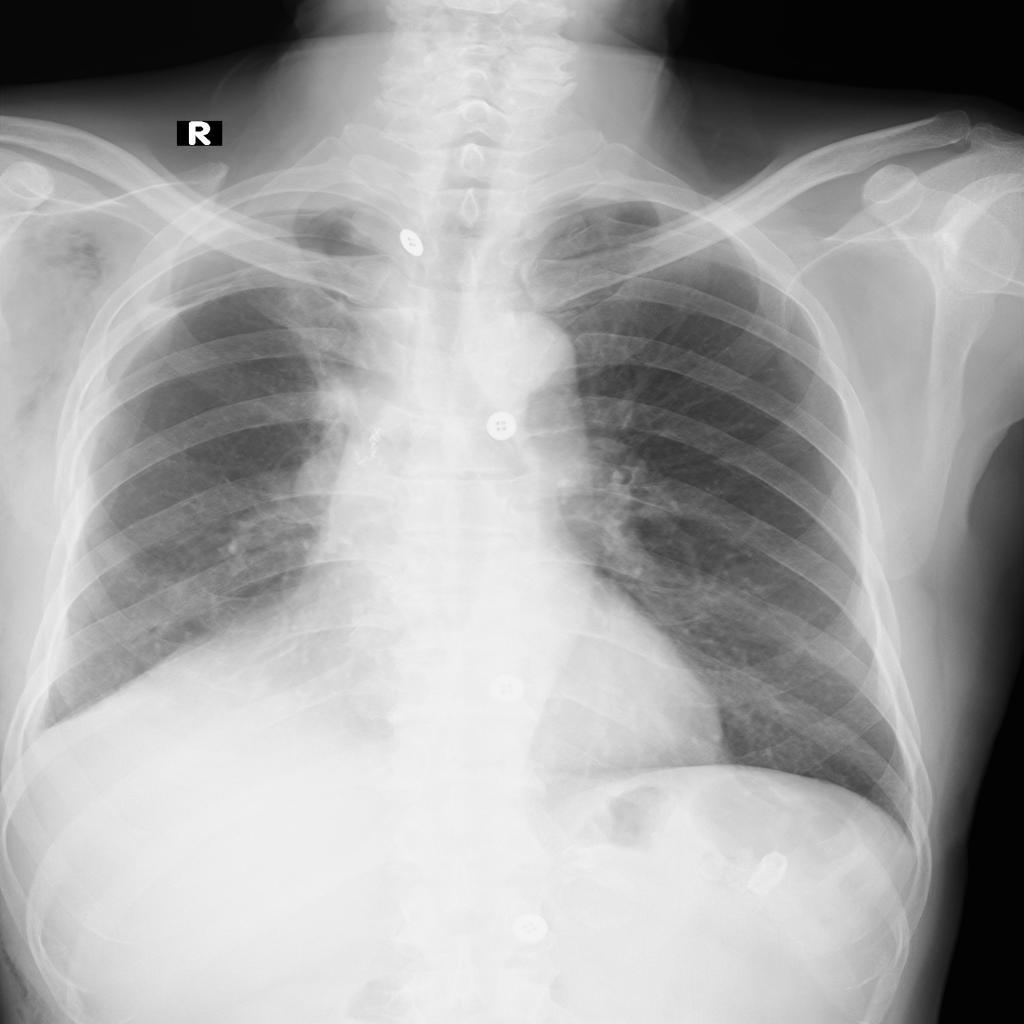Nodule: (295, 443, 387, 522)
